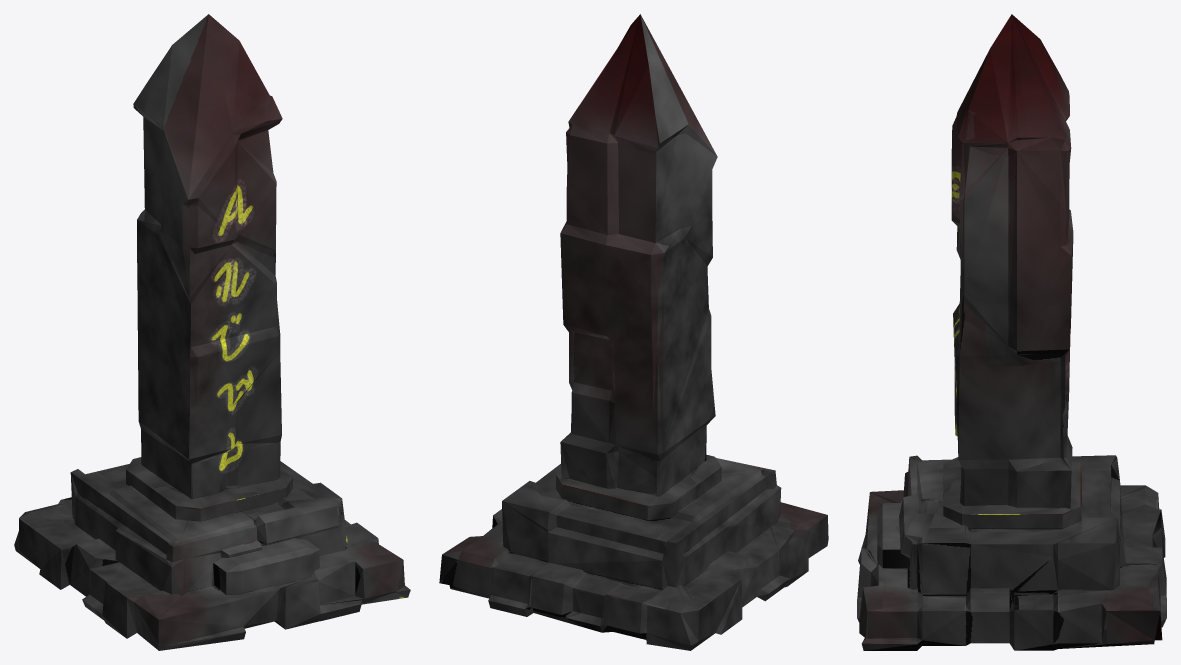
File: Stone_Small_Pillar.fbx
The picture shows the model from 3 angles, left to right: view 1: azimuth 30°, elevation 25°; view 2: azimuth 150°, elevation 25°; view 3: azimuth 270°, elevation 25°; orthographic projection. The views are drawn at different scales.
Parts seen in each view (by area): view 1: Cube.003; view 2: Cube.003; view 3: Cube.003.
Part boxes in pixels (x1,y1,x2,y2): Cube.003: (14,14,410,650); Cube.003: (439,14,828,650); Cube.003: (857,14,1166,650).
Bounding box in the file's own units: 76.3 × 159 × 77.43.
